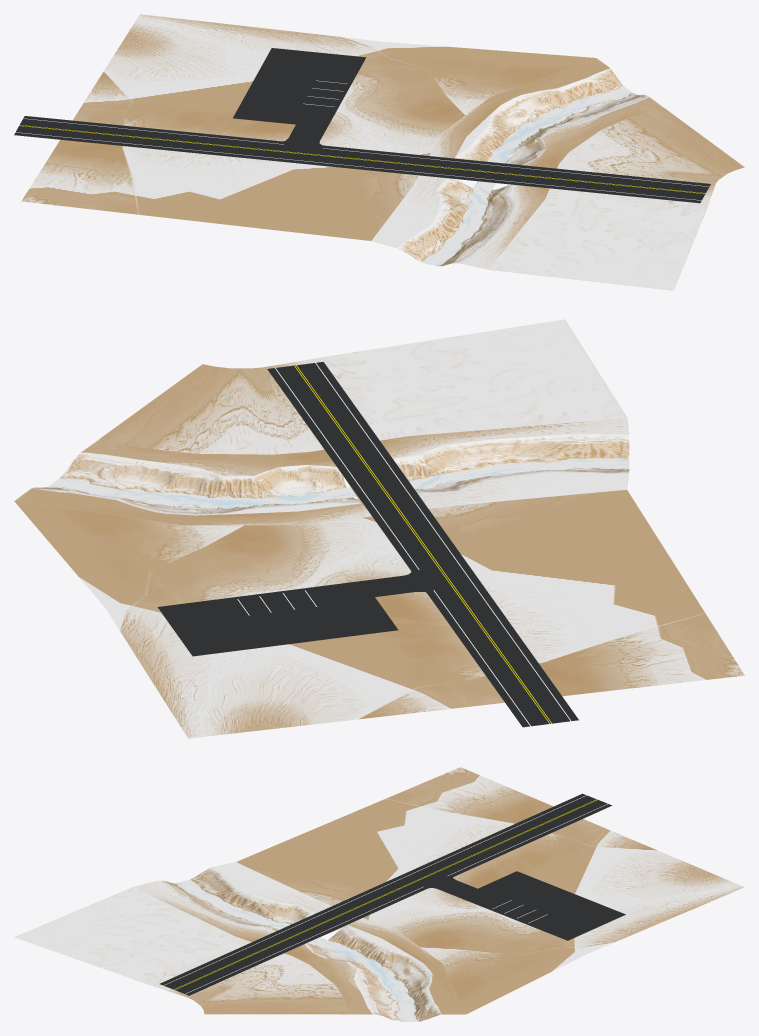
File: Church_Ground.fbx
3 renders of one model, top to bottom at view 1: azimuth 30°, elevation 25°; view 2: azimuth 150°, elevation 25°; view 3: azimuth 270°, elevation 25°, orthographic. The views are drawn at different scales.
Parts seen in each view (by area): view 1: SM_Church_Ground_01.mo, SM_Church_Road_01.mo; view 2: SM_Church_Ground_01.mo, SM_Church_Road_01.mo; view 3: SM_Church_Ground_01.mo, SM_Church_Road_01.mo.
Part boxes in pixels (<box>): SM_Church_Ground_01.mo: <box>21,14,744,290</box>; SM_Church_Road_01.mo: <box>14,48,710,203</box>; SM_Church_Ground_01.mo: <box>14,319,744,738</box>; SM_Church_Road_01.mo: <box>157,362,578,727</box>; SM_Church_Ground_01.mo: <box>14,767,744,1021</box>; SM_Church_Road_01.mo: <box>160,793,625,995</box>.
Bounding box in the file's own units: 13699 × 195 × 17093.
